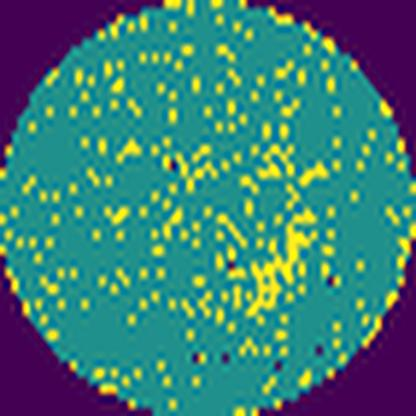Loc: (243, 202, 323, 316)
